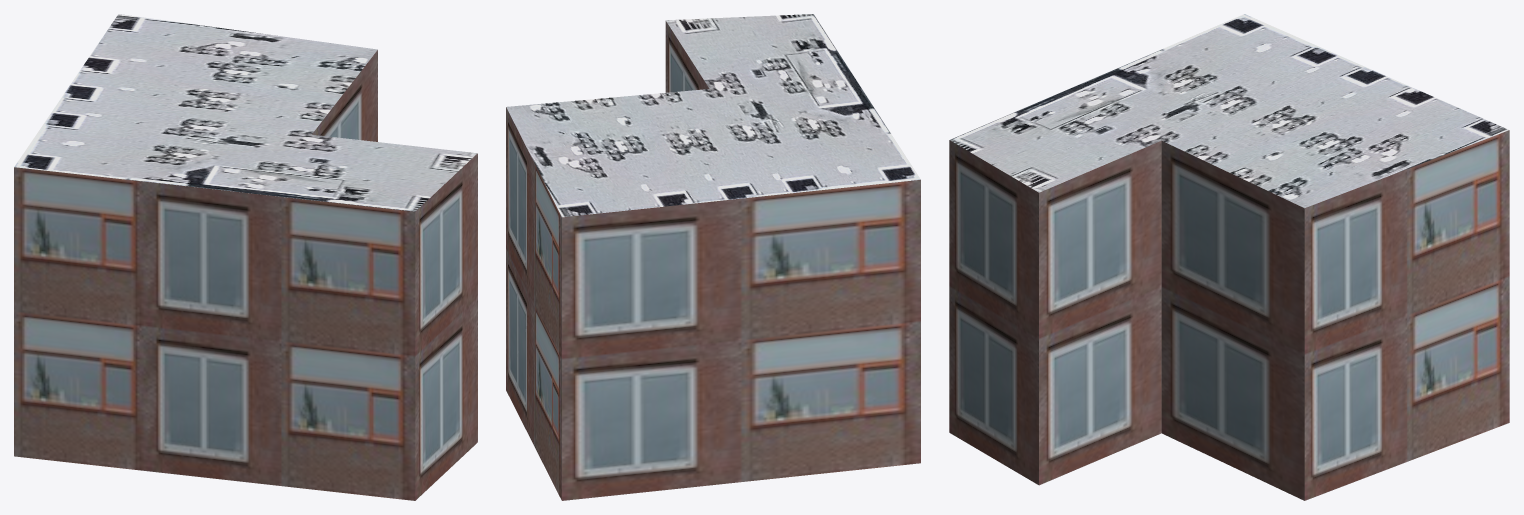
Rendered from ResTex__23.fbx.
3 views of the same model, side by side, from view 1: azimuth 30°, elevation 25°; view 2: azimuth 150°, elevation 25°; view 3: azimuth 270°, elevation 25° (orthographic). The views are drawn at different scales.
Parts seen in each view (by area): view 1: CityEngineMaterial_19_m, CityEngineMaterial_15_m; view 2: CityEngineMaterial_19_m, CityEngineMaterial_15_m; view 3: CityEngineMaterial_19_m, CityEngineMaterial_15_m.
Part boxes in pixels (<box>): CityEngineMaterial_19_m: <box>14,50,477,500</box>; CityEngineMaterial_15_m: <box>14,14,477,211</box>; CityEngineMaterial_19_m: <box>506,21,920,500</box>; CityEngineMaterial_15_m: <box>506,14,920,217</box>; CityEngineMaterial_19_m: <box>949,130,1509,500</box>; CityEngineMaterial_15_m: <box>950,14,1509,208</box>.
Bounding box in the file's own units: 8.54 × 6 × 10.41.
Materials: 2 (2 with a texture image).
